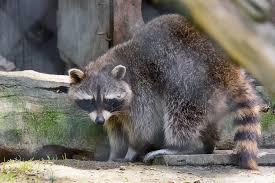raccoon: (54, 6, 274, 181)
